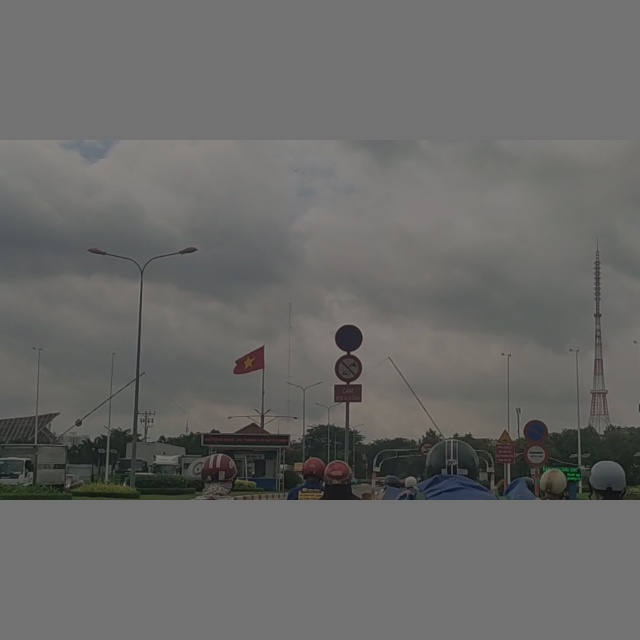P.107: (420, 442, 433, 455)
P.111: (335, 354, 362, 381)
P.129: (525, 445, 550, 465)
P.130: (335, 325, 363, 351)
P.131a: (523, 420, 549, 443)
W.221b: (497, 430, 513, 443)
